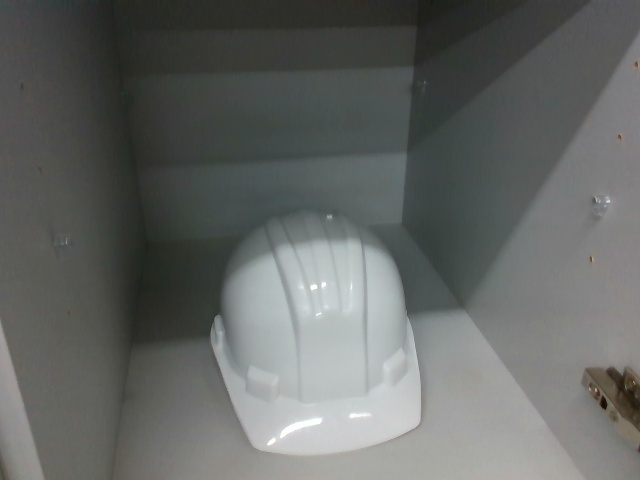helmet: (204, 203, 430, 460)
